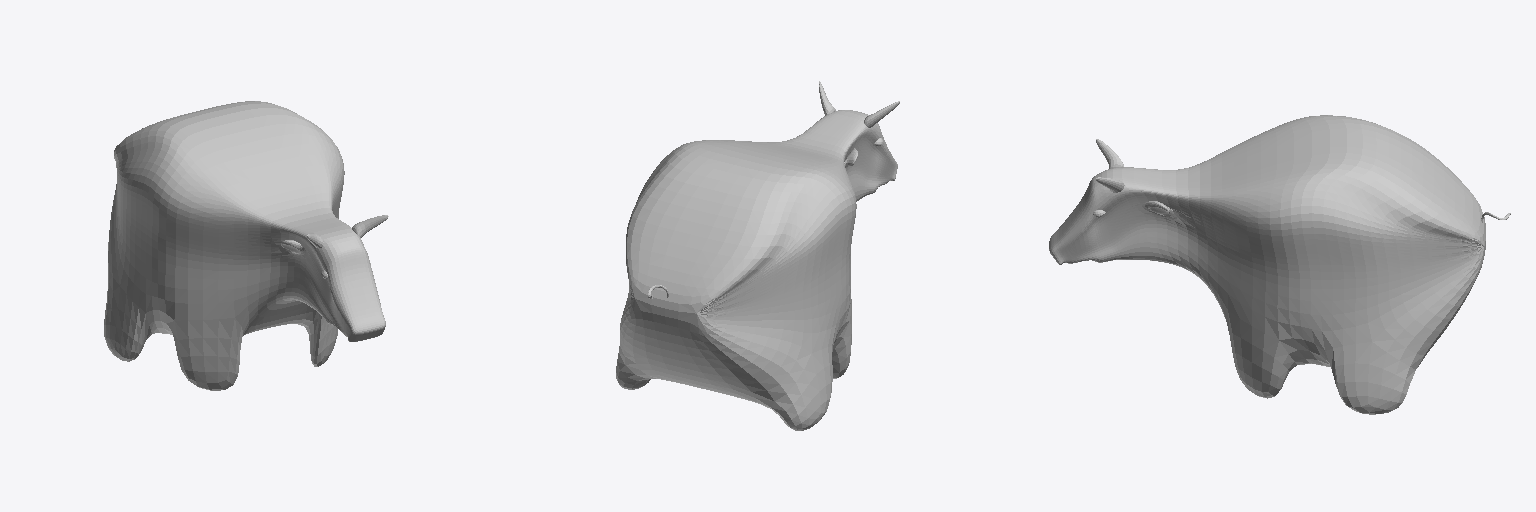
The model's file is new_cow.obj.
3 views of the same model, side by side, from view 1: azimuth 30°, elevation 25°; view 2: azimuth 150°, elevation 25°; view 3: azimuth 270°, elevation 25° (orthographic).
Visible parts, largest first — view 1: Sphere; view 2: Sphere; view 3: Sphere.
Part boxes in pixels (x1,y1,x2,y2): Sphere: (104, 101, 388, 390); Sphere: (616, 81, 899, 430); Sphere: (1049, 115, 1510, 414).
Bounding box in the file's own units: 8.37 × 9.51 × 17.18.